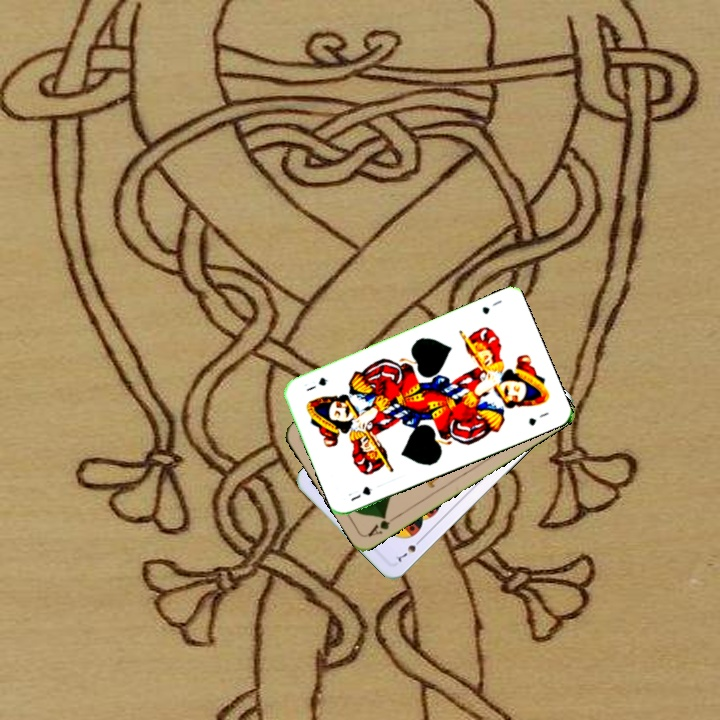GA: (364, 511, 400, 539)
GU: (344, 482, 375, 504), (478, 296, 504, 317)
S7: (392, 534, 425, 564)
